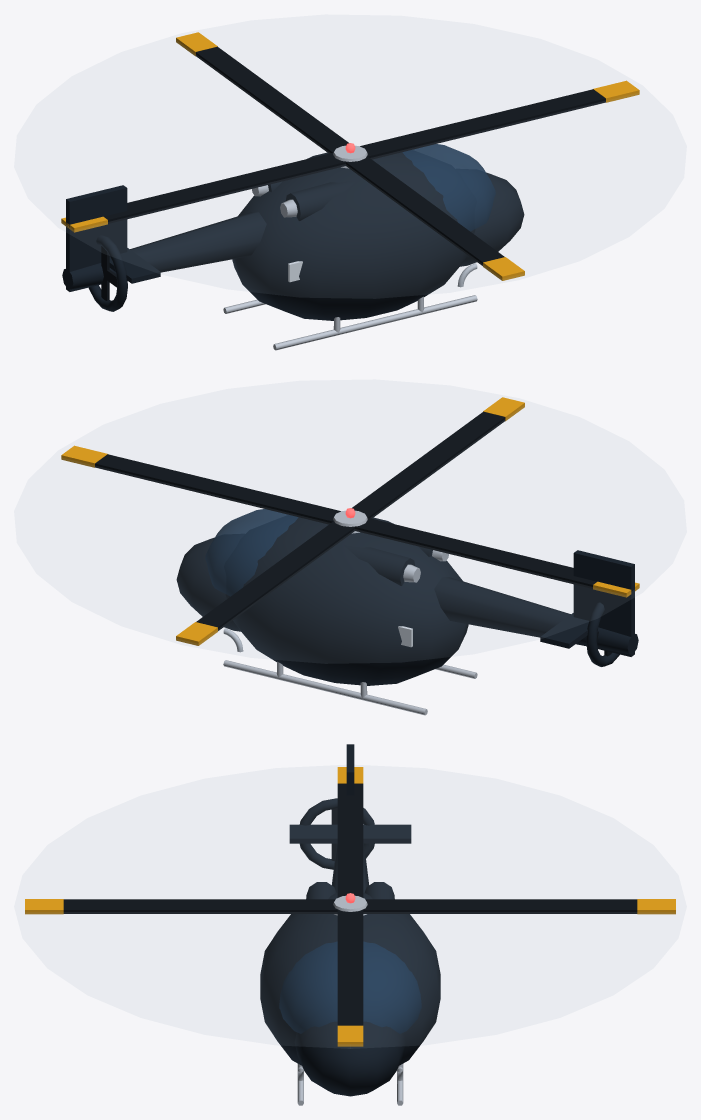
The model's file is helicopter.glb.
3 renders of one model, top to bottom at view 1: azimuth 30°, elevation 25°; view 2: azimuth 150°, elevation 25°; view 3: azimuth 270°, elevation 25°, orthographic.
Parts seen in each view (by area): view 1: Helicopter; view 2: Helicopter; view 3: Helicopter.
Part boxes in pixels (x1,y1,x2,y2): Helicopter: [61, 32, 639, 350]; Helicopter: [61, 397, 639, 715]; Helicopter: [25, 744, 675, 1105].
Bounding box in the file's own units: 12.2 × 3.57 × 12.2.
